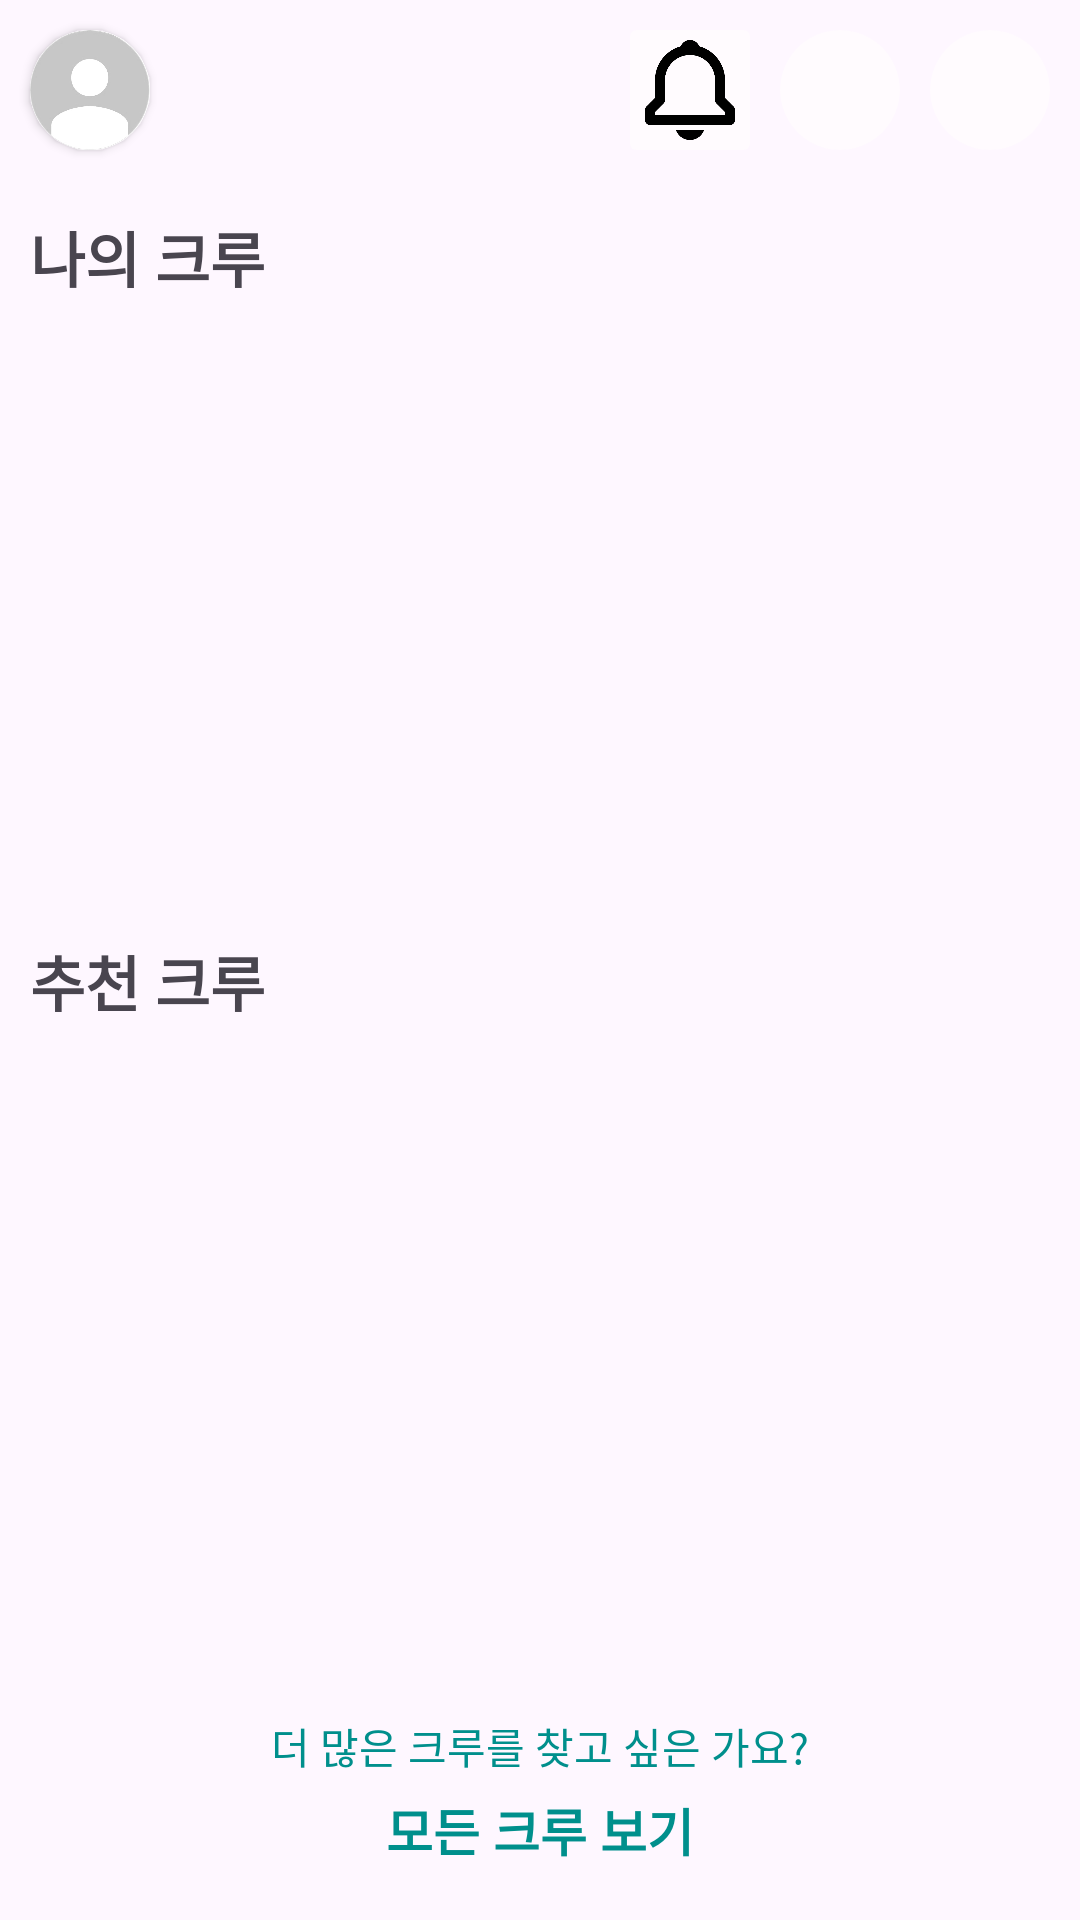

Icon bounding boxes for this 1080×1920 phone screenshot, format (x1, y1, x2, y2):
bell: (645, 40, 735, 140)
profile: (30, 30, 149, 150)
